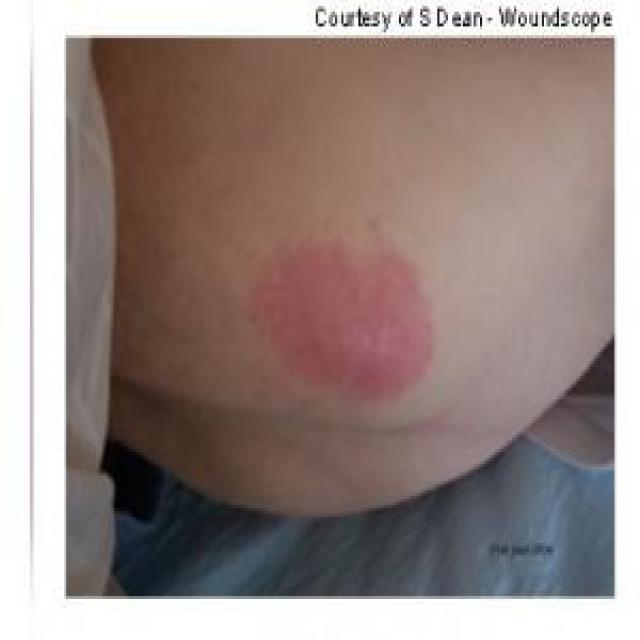stage-1: (250, 239, 437, 403)
